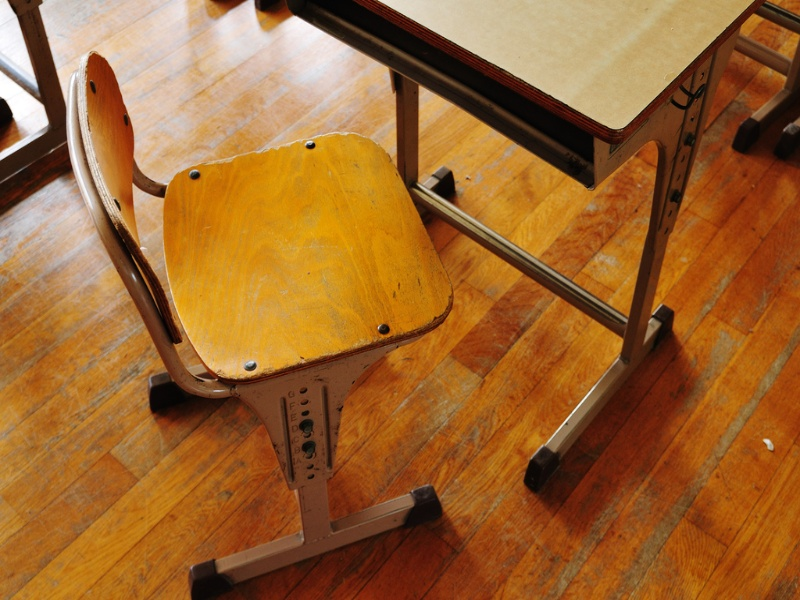chair: (55, 43, 454, 589)
